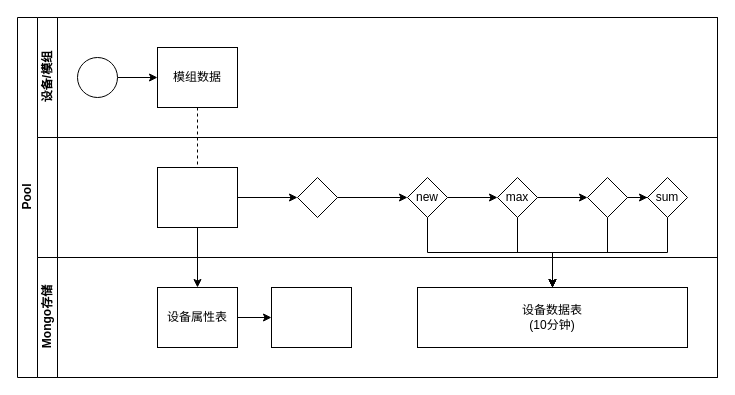
This 735x395 diagram has some shape labels left out. Each missing label, with the box of its shape:
min: (586, 176, 628, 218)
云端数据转换: (156, 166, 238, 228)
数值: (296, 176, 338, 218)
物模型数据: (36, 136, 718, 258)
设备日志表 (家储，2天): (270, 286, 352, 348)
